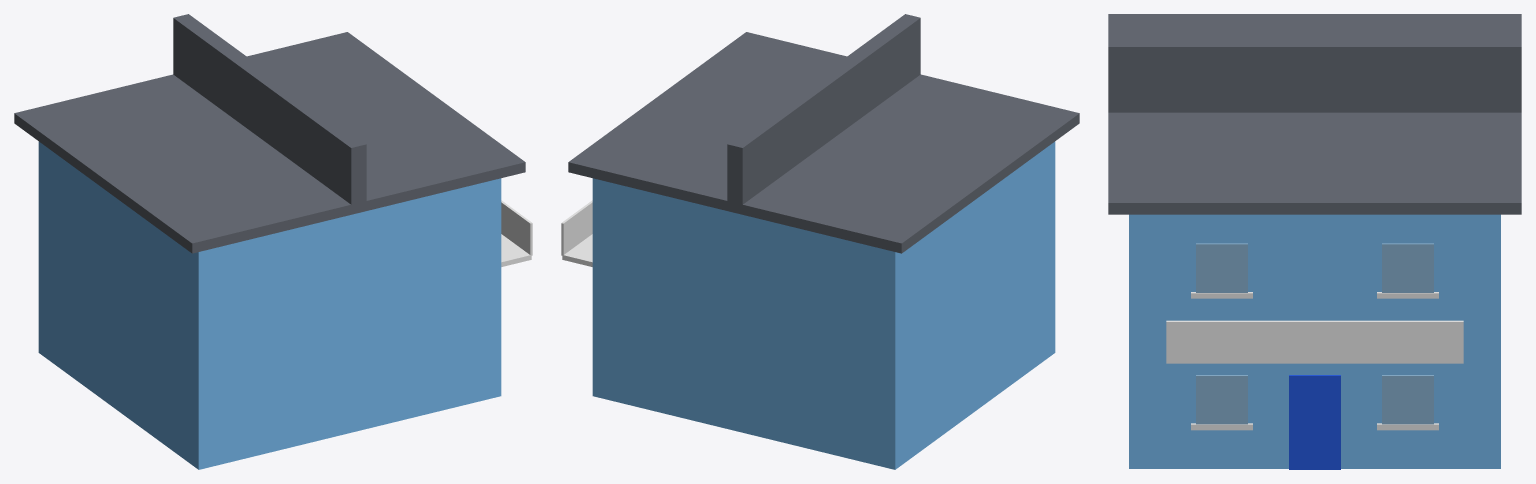
Rendered from casa_playa_2.obj.
3 renders of one model, left to right at view 1: azimuth 30°, elevation 25°; view 2: azimuth 150°, elevation 25°; view 3: azimuth 270°, elevation 25°, orthographic. The views are drawn at different scales.
Parts seen in each view (by area): view 1: casa_playa_2; view 2: casa_playa_2; view 3: casa_playa_2.
Boxes of the visible parts, x1,y1,x2,y2 form: casa_playa_2: (14,14,532,469); casa_playa_2: (561,14,1079,469); casa_playa_2: (1108,14,1521,469).
Bounding box in the file's own units: 9.45 × 7.25 × 7.97.
